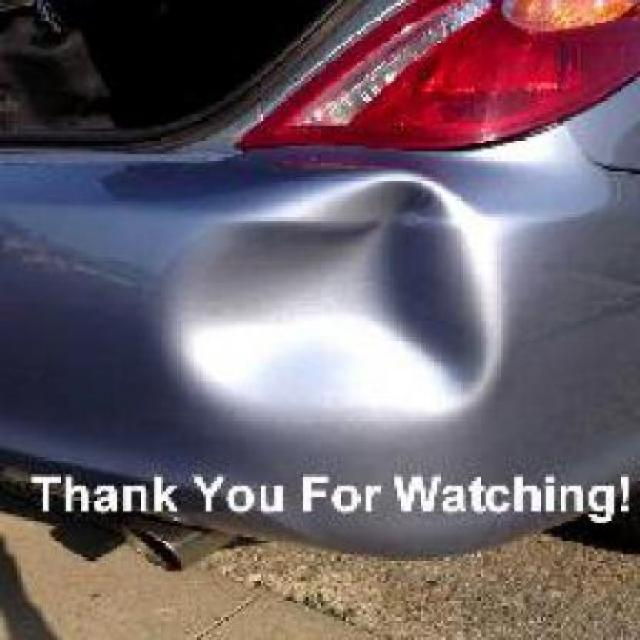dent-or-scratch: (138, 164, 522, 426)
